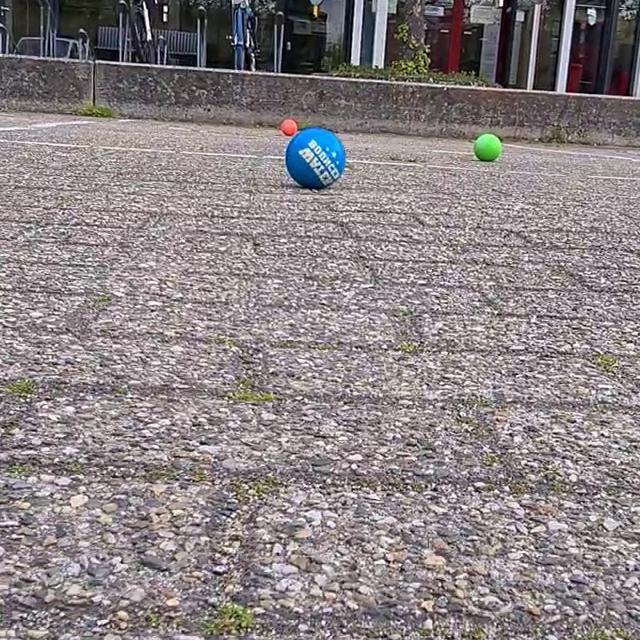ball: (472, 130, 504, 163), (278, 118, 298, 138)
